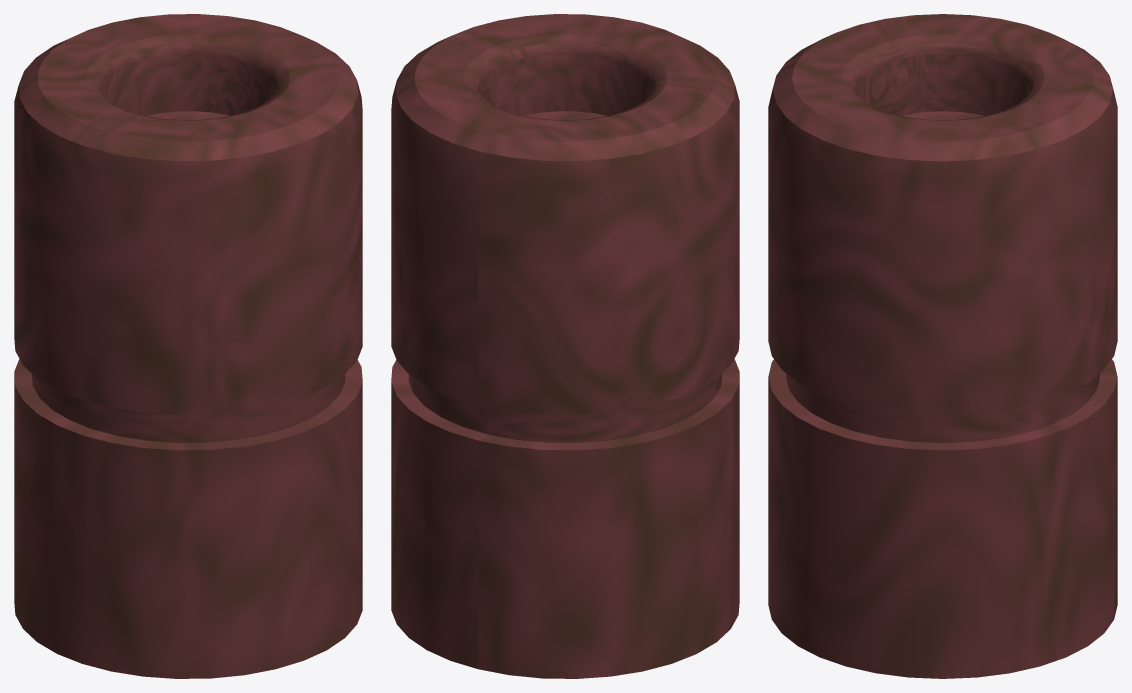
The model's file is piece_1111.obj.
3 renders of one model, left to right at view 1: azimuth 30°, elevation 25°; view 2: azimuth 150°, elevation 25°; view 3: azimuth 270°, elevation 25°, orthographic.
Parts seen in each view (by area): view 1: btch_Cylinder.015; view 2: btch_Cylinder.015; view 3: btch_Cylinder.015.
Boxes of the visible parts, <box> form: btch_Cylinder.015: <box>14,14,362,678</box>; btch_Cylinder.015: <box>391,14,739,678</box>; btch_Cylinder.015: <box>768,14,1117,678</box>.
Size of the model in its own units: 0.18 by 0.3 by 0.18.
Materials: 1 (1 with a texture image).
